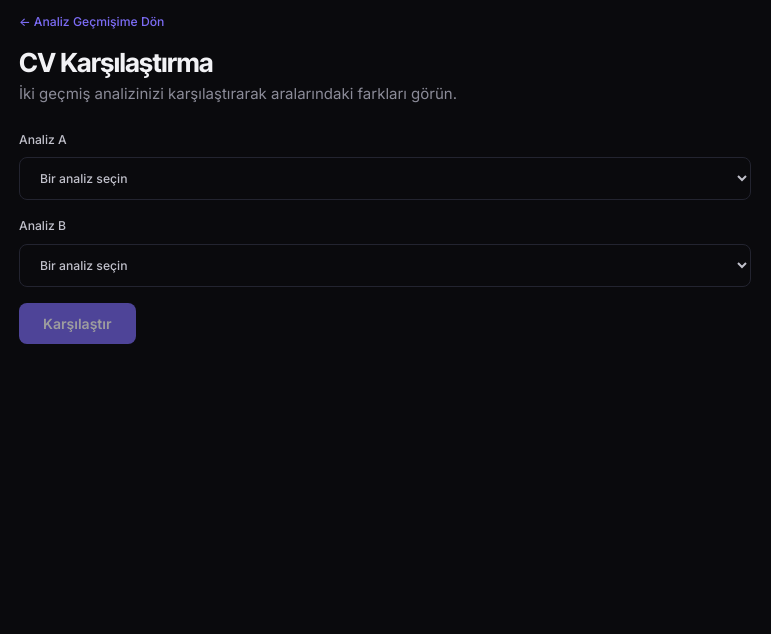
Test case: ComparePage › submits two different analysis ids and renders each side’s unique strengths/weaknesses plus the score difference
Select "a.pdf — 82" in the dropdown labelled "Analiz A" at (385, 179), box [19, 157, 751, 200]
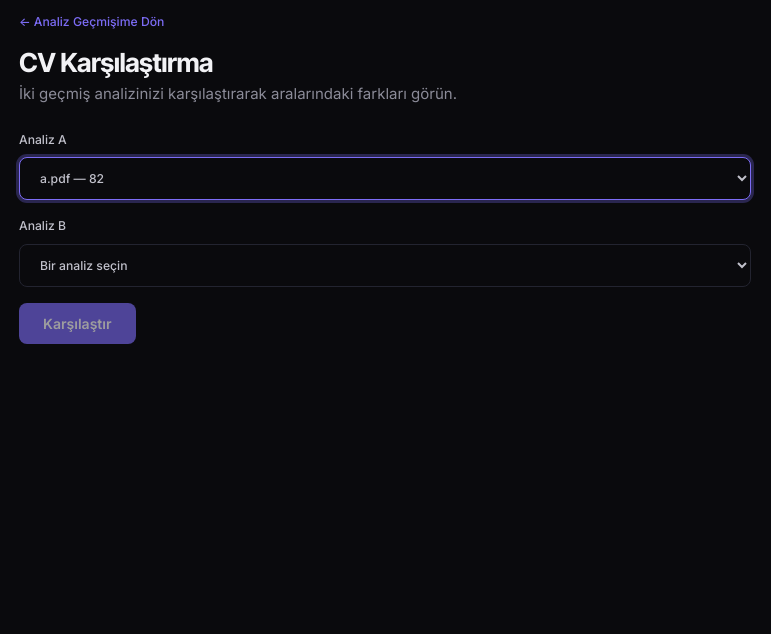
Select "b.pdf — 91" in the dropdown labelled "Analiz B" at (385, 265), box [19, 244, 751, 287]
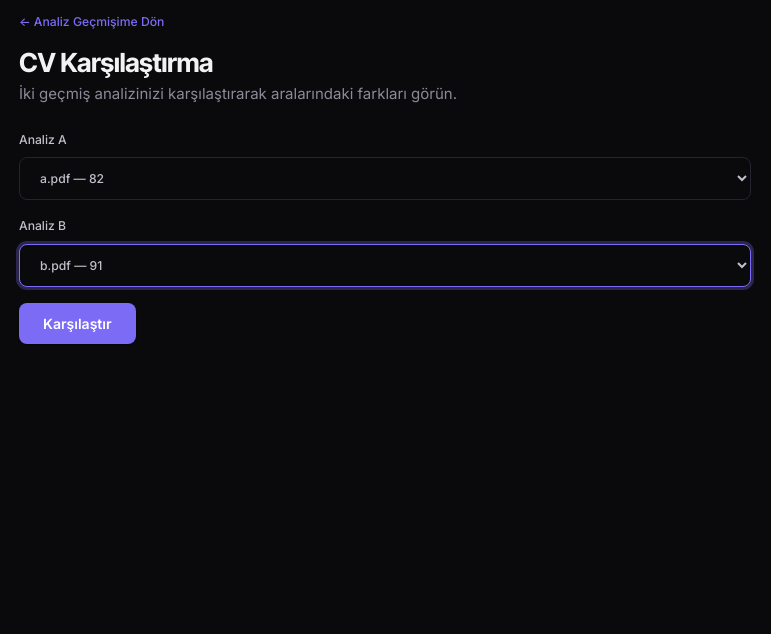
Click the button "Karşılaştır" at (77, 323), box [19, 303, 136, 344]
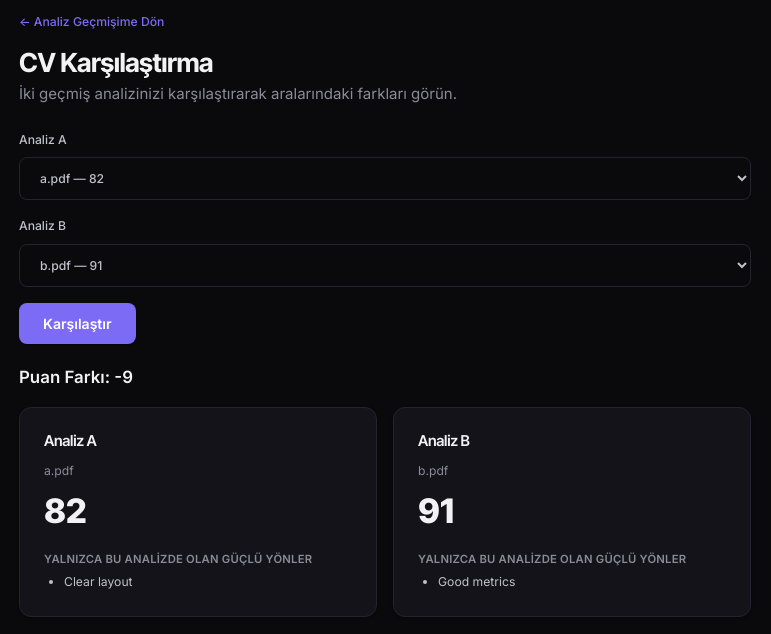
Expected: the list item "Clear layout" is shown, [64, 574, 133, 589]
Expected: the list item "Good metrics" is shown, [438, 574, 515, 589]
Expected: the text "Puan Farkı: -9" is shown, [19, 367, 133, 387]
